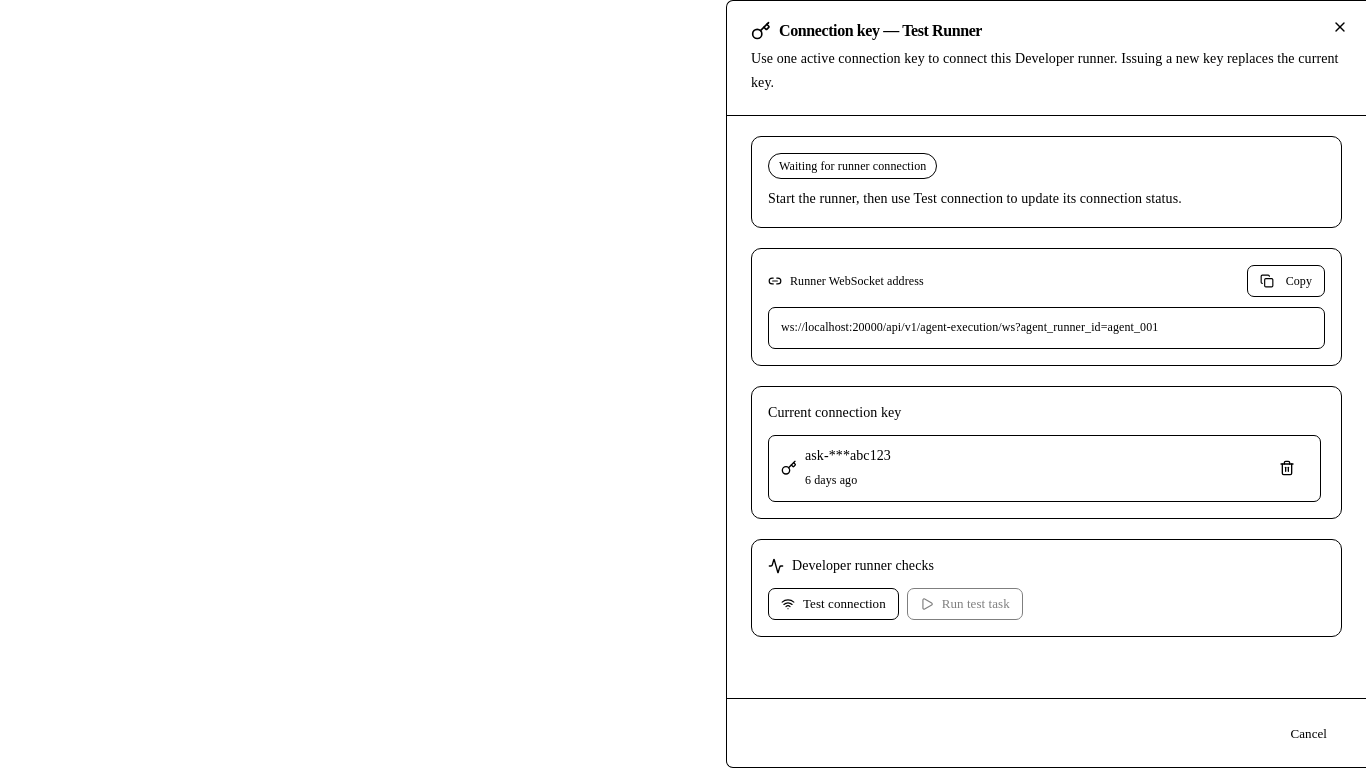
AgentRunnerKeysDialog › Key Revocation › opens revoke confirmation when clicking revoke button
Expected: the text "ask-***abc123" is shown, top-left (805, 448), bottom-right (891, 462)
Click the 3rd button: (1287, 468) top-left (1266, 452), bottom-right (1308, 484)
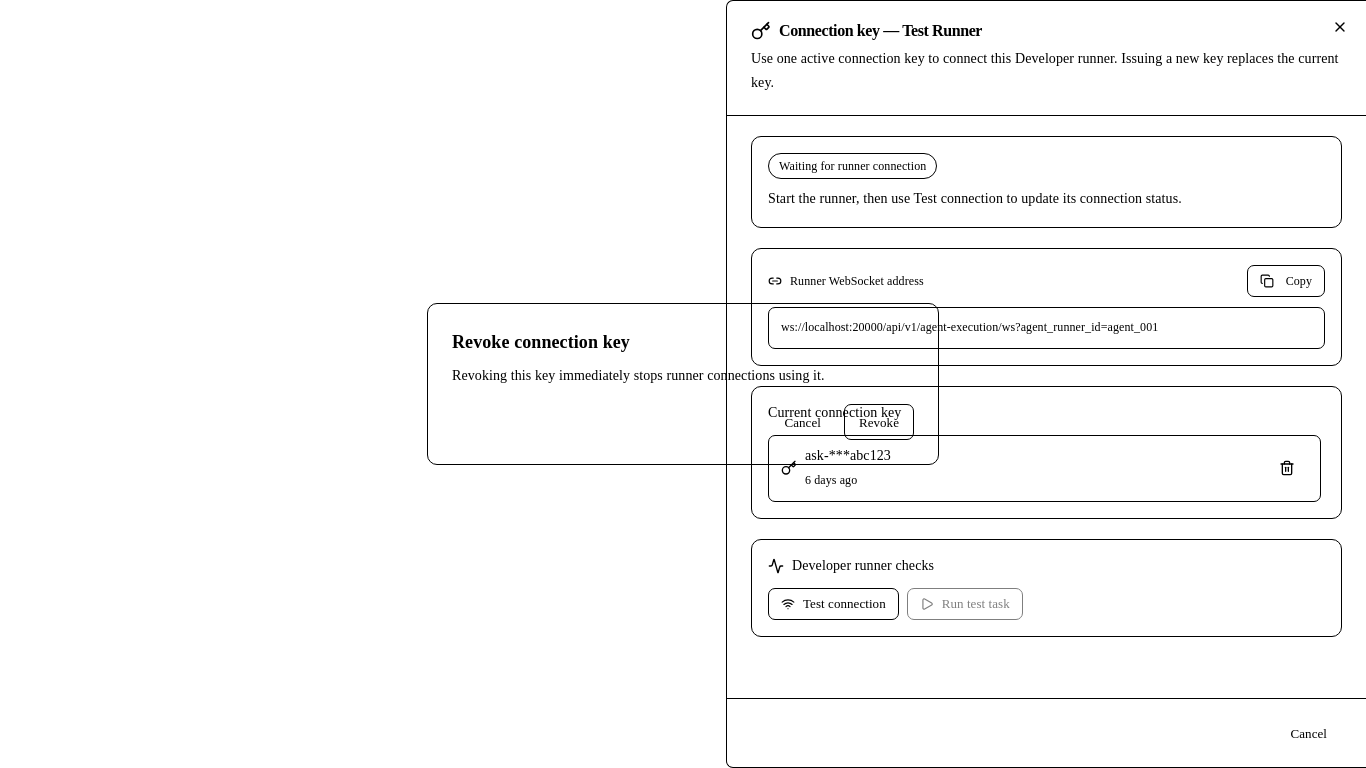
Expected: the heading "Revoke connection key" is shown, top-left (452, 332), bottom-right (630, 352)
Expected: the text "immediately stops runner connections" is shown, top-left (452, 368), bottom-right (825, 383)
